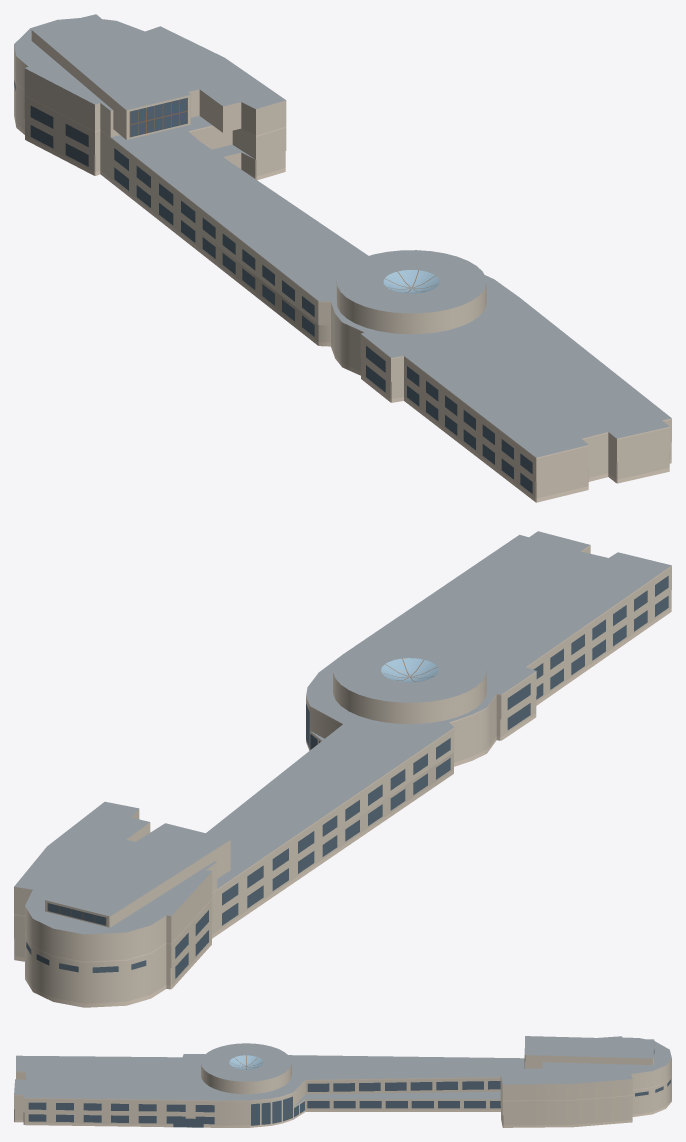
File: dc-au-katzen-arts-center.glb
3 renders of one model, top to bottom at view 1: azimuth 30°, elevation 25°; view 2: azimuth 150°, elevation 25°; view 3: azimuth 270°, elevation 25°, orthographic. The views are drawn at different scales.
Parts seen in each view (by area): view 1: Katzen Arts Center; view 2: Katzen Arts Center; view 3: Katzen Arts Center.
Part boxes in pixels (<box>): Katzen Arts Center: <box>14,14,671,502</box>; Katzen Arts Center: <box>14,531,671,1007</box>; Katzen Arts Center: <box>14,1036,671,1127</box>.
Size of the model in its own units: 34.2 by 16.5 by 197.
